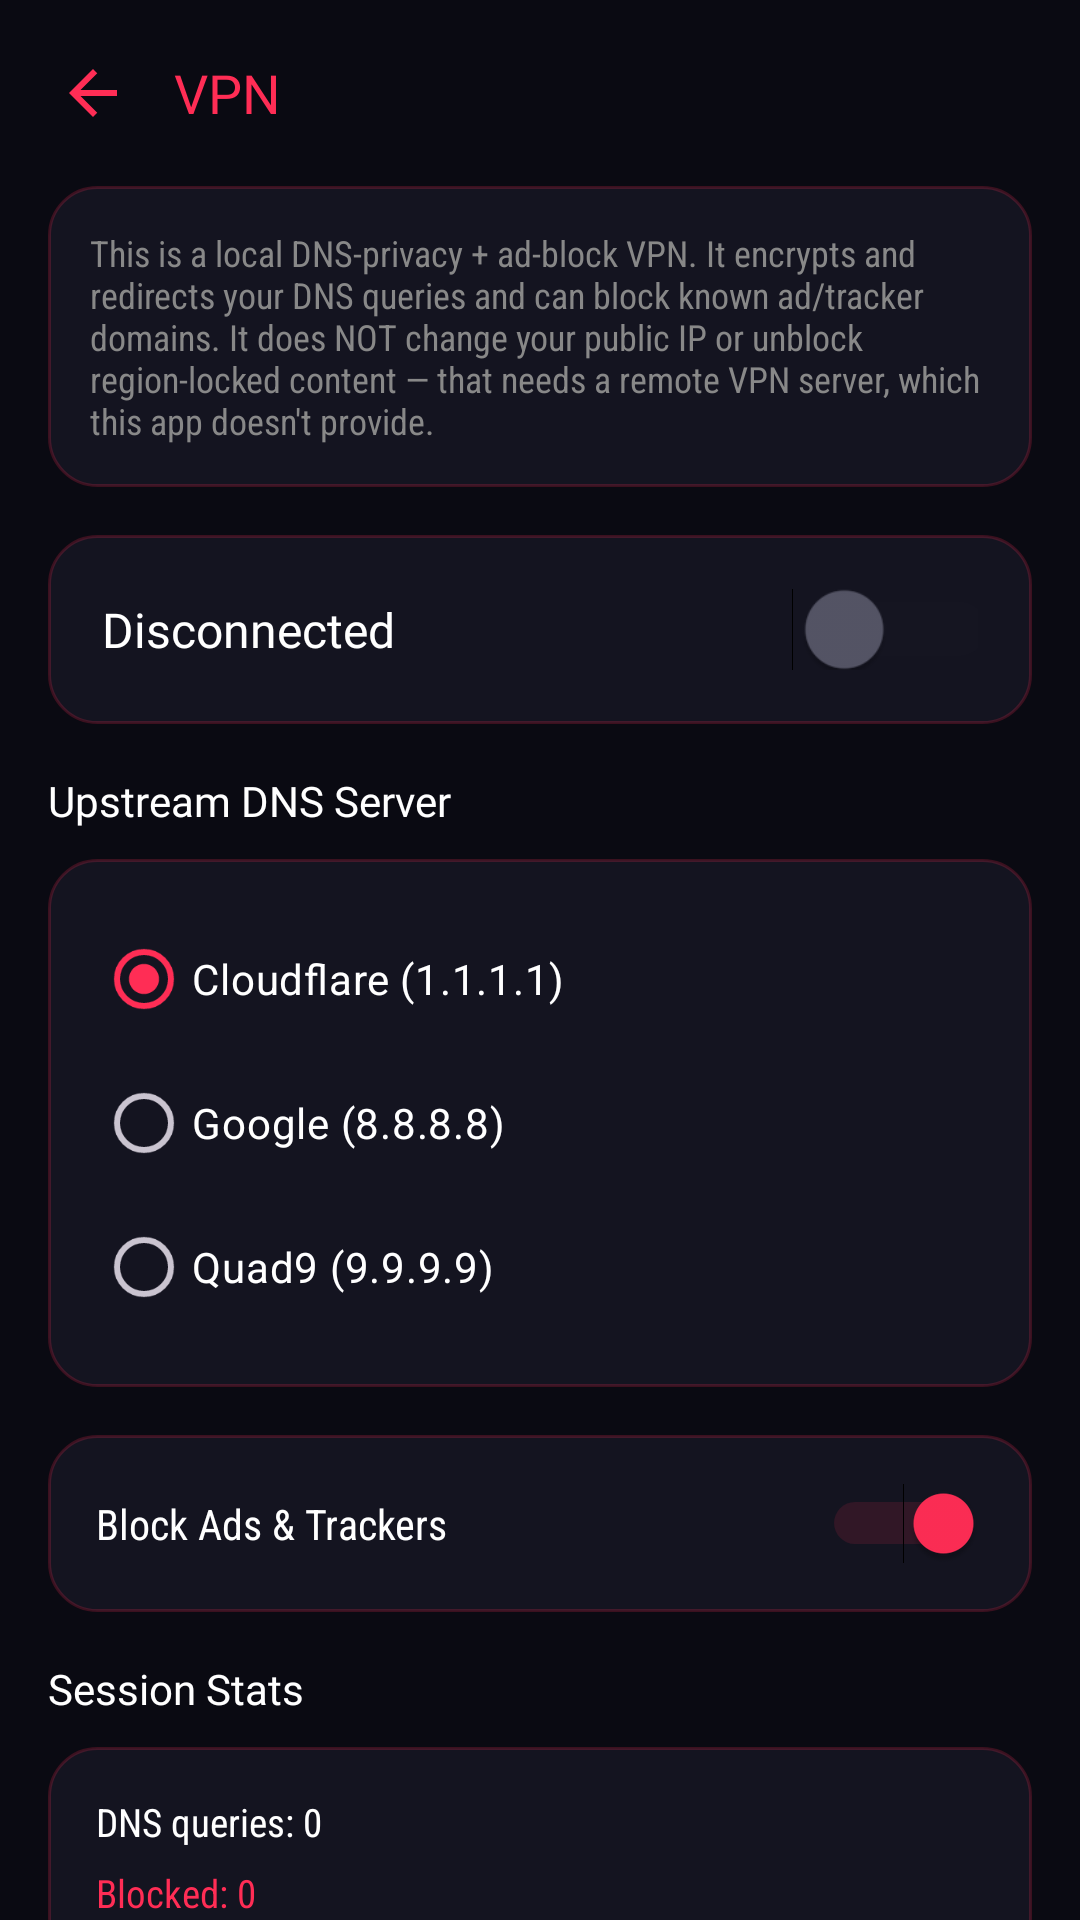

Icons on this 1080*1920 Android screen, each with its box as (x1, y1, x2, y2):
Back: (69, 69, 117, 117)
